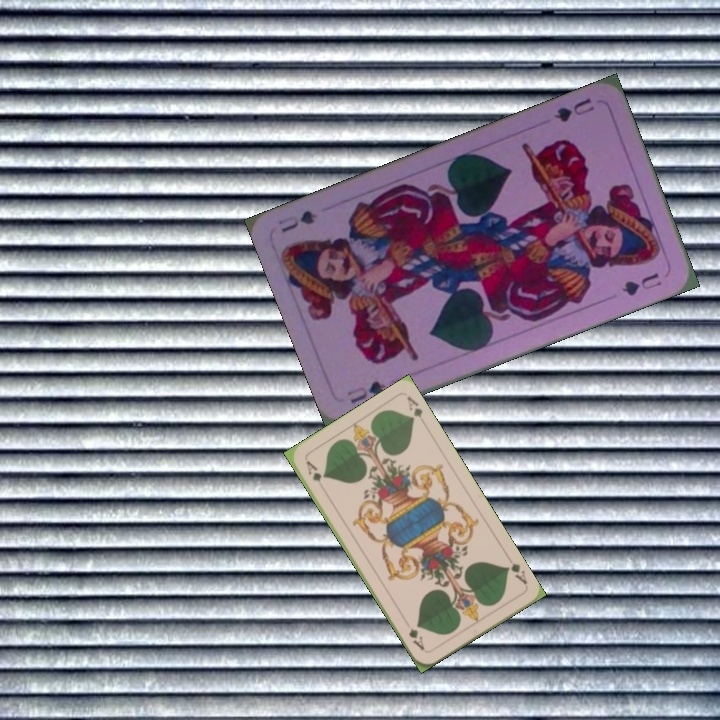GA: (501, 559, 530, 587), (302, 456, 324, 484)
GU: (550, 94, 598, 125), (343, 376, 389, 406)
